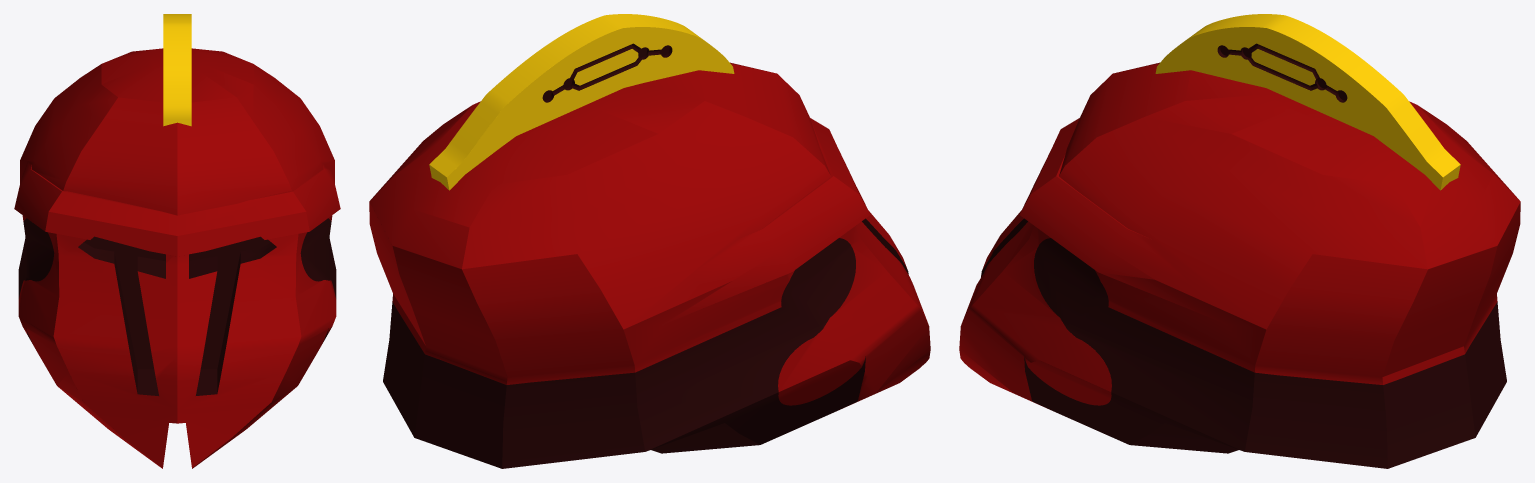
File: tts-helmet.glb
The picture shows the model from 3 angles, left to right: view 1: azimuth 30°, elevation 25°; view 2: azimuth 150°, elevation 25°; view 3: azimuth 270°, elevation 25°; orthographic projection. The views are drawn at different scales.
Visible parts, largest first — view 1: Helmet, BackPanel, Crest; view 2: Helmet, BackPanel, Crest; view 3: Helmet, BackPanel, Crest.
Boxes of the visible parts, left/top/right/bottom form: Helmet: left=14, top=48, right=340, bottom=468; BackPanel: left=18, top=218, right=336, bottom=343; Crest: left=163, top=14, right=191, bottom=126; Helmet: left=369, top=62, right=930, bottom=408; BackPanel: left=383, top=238, right=865, bottom=468; Crest: left=429, top=14, right=734, bottom=190; Helmet: left=959, top=62, right=1520, bottom=408; BackPanel: left=1024, top=238, right=1506, bottom=468; Crest: left=1155, top=14, right=1460, bottom=190.
Bounding box in the file's own units: 2.34 × 2.2 × 2.7.
